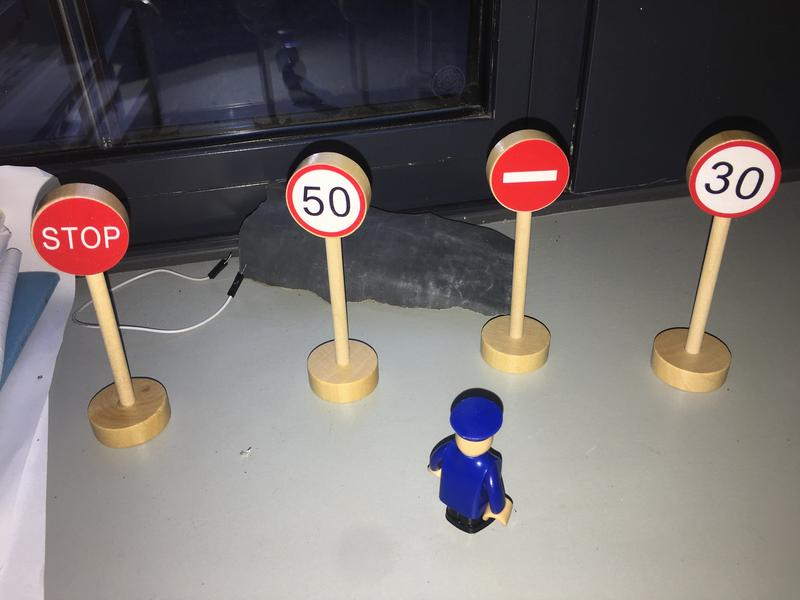Traffic_Sign_30: (689, 138, 781, 218)
Traffic_Sign_50: (285, 164, 367, 239)
Traffic_Sign_No_Entry: (492, 139, 569, 213)
Traffic_Sign_Stop: (33, 198, 129, 275)
person: (424, 396, 520, 535)
